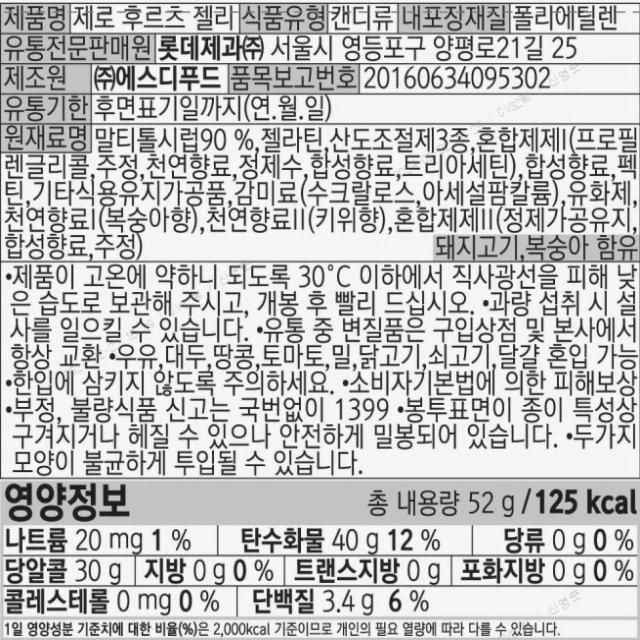Nutrition Label: (0, 475, 640, 640)
